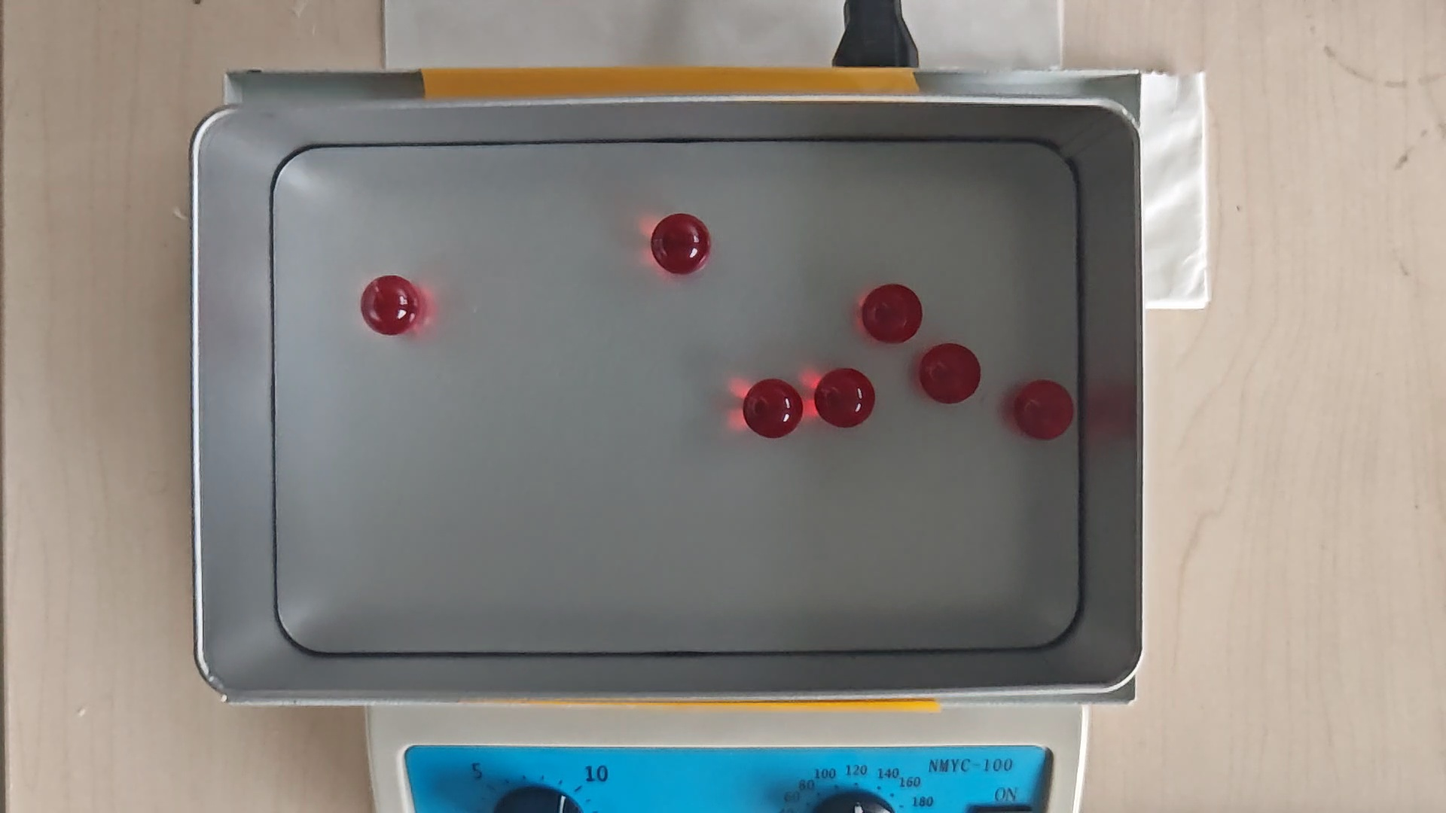ball: (919, 341, 980, 406), (744, 378, 803, 441), (816, 367, 875, 430), (652, 212, 710, 276), (1014, 379, 1074, 440), (362, 275, 421, 334), (863, 283, 920, 344)
container: (267, 141, 1079, 651)
